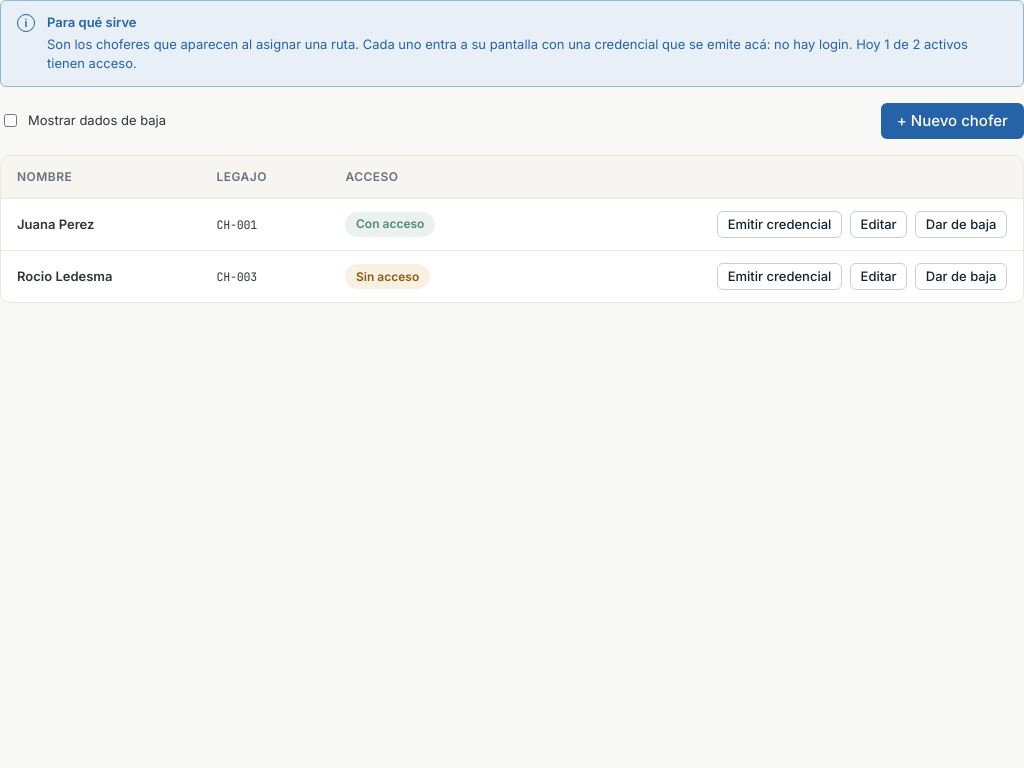
Test: CU-09 · choferes › el legajo duplicado avisa que puede ser de un chofer dado de baja
This screenshot has width=1024, height=768.
Click the button "+ Nuevo chofer": (952, 121) [881,103,1023,139]
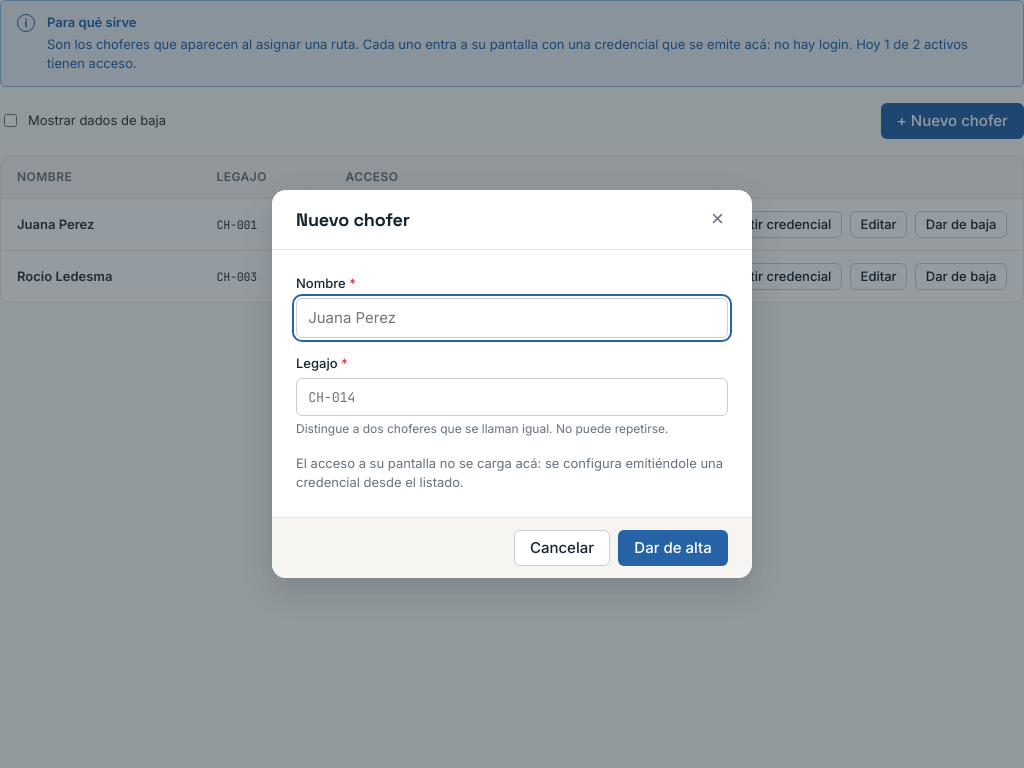
In the field labelled "Nombre *": (512, 318) [296,298,728,338], type "Hector Villalba"
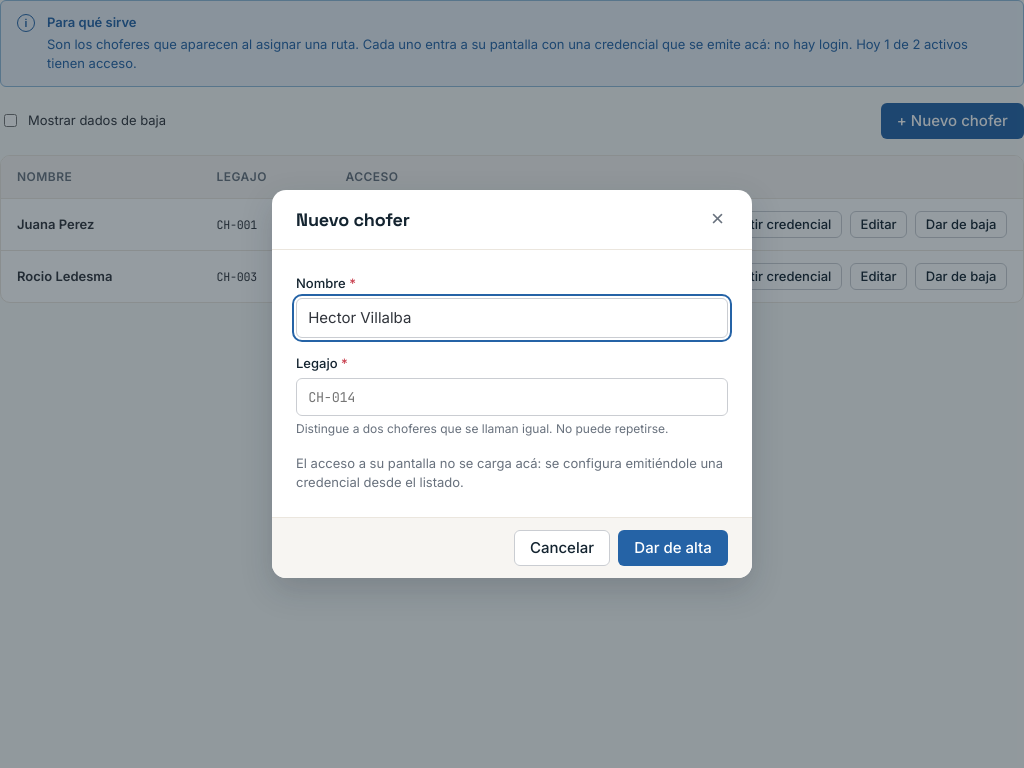
In the field labelled "Legajo *": (512, 397) [296,378,728,416], type "CH-004"
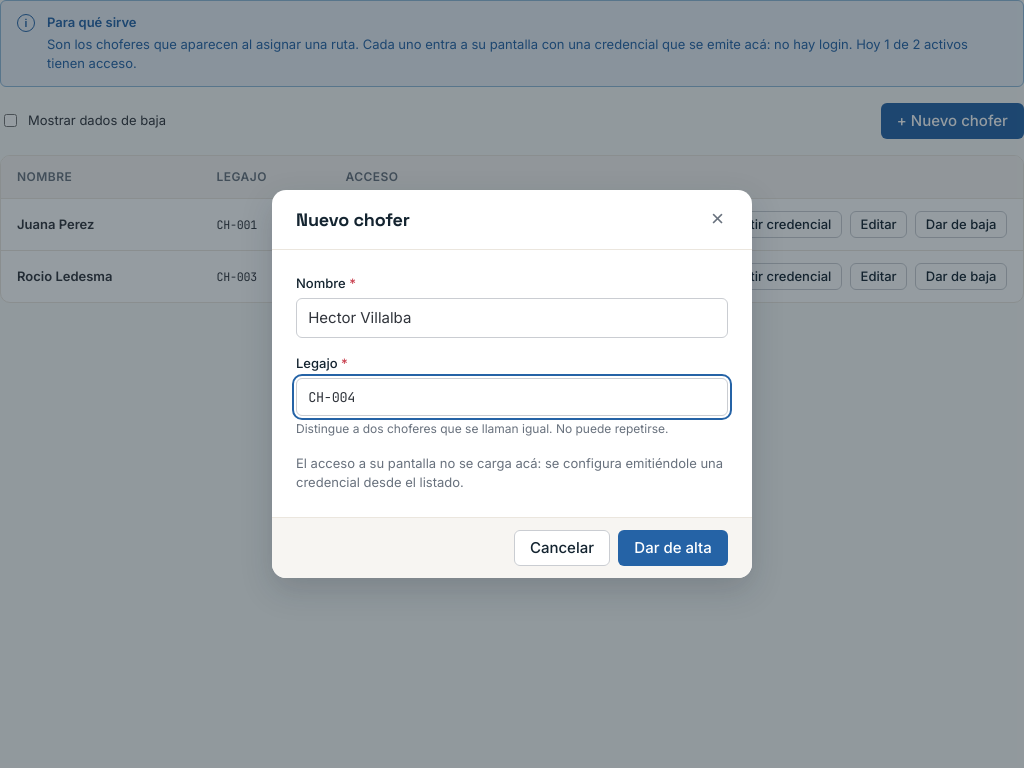
Click the button "Dar de alta": (673, 548) [618,530,728,566]
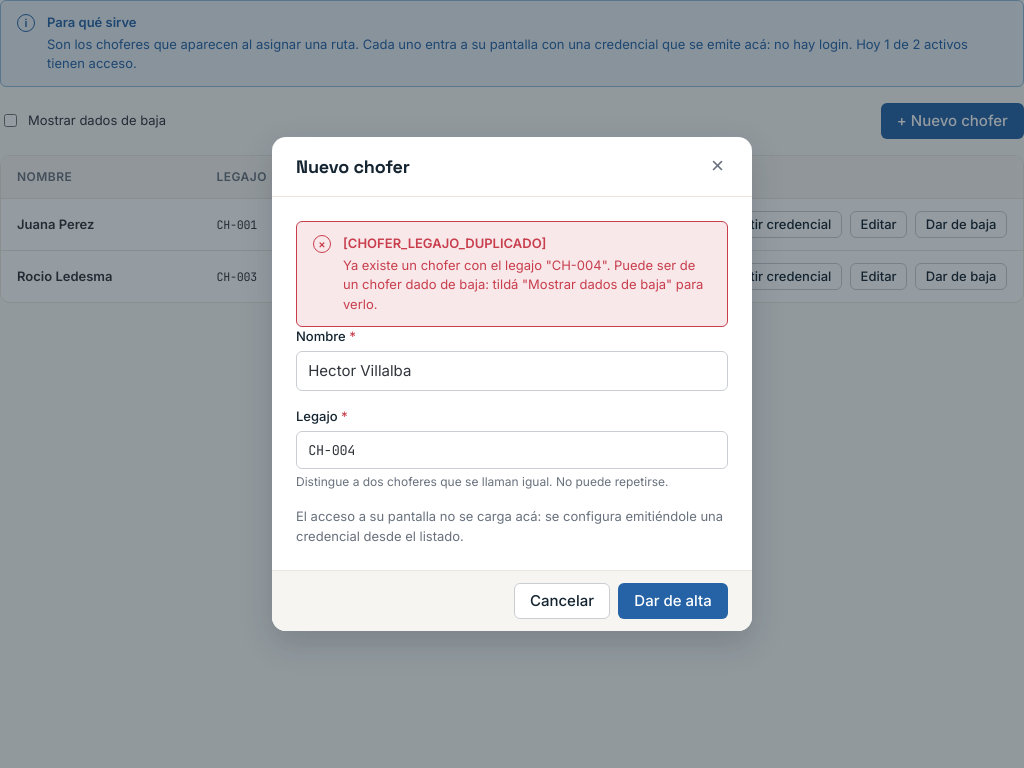
Expected: the text "[CHOFER_LEGAJO_DUPLICADO]" is shown, [343,235,546,251]
Expected: the text "Puede ser de un chofer dado de baja" is shown, [343,257,703,312]
